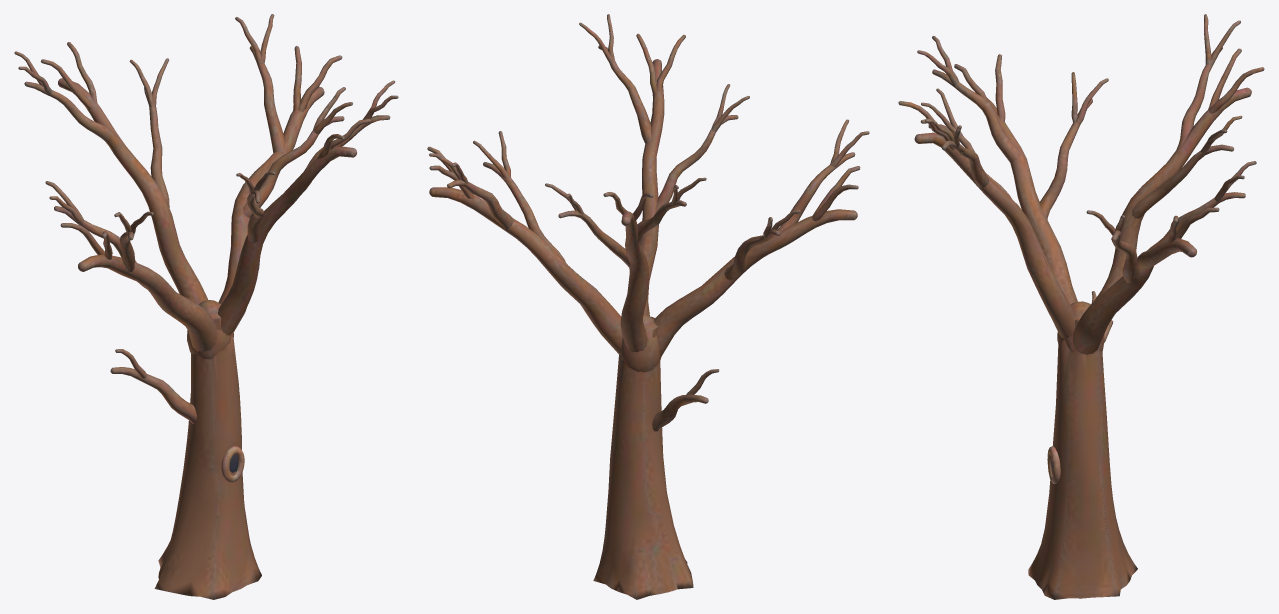
The model's file is deadtree.glb.
The picture shows the model from 3 angles, left to right: view 1: azimuth 30°, elevation 25°; view 2: azimuth 150°, elevation 25°; view 3: azimuth 270°, elevation 25°; orthographic projection. The views are drawn at different scales.
Parts seen in each view (by area): view 1: dead-tree_body; view 2: dead-tree_body; view 3: dead-tree_body.
Part boxes in pixels (<box>): dead-tree_body: <box>14,14,398,599</box>; dead-tree_body: <box>427,14,869,599</box>; dead-tree_body: <box>898,14,1264,599</box>.
Size of the model in its own units: 3.41 by 4.51 by 2.9.
1 material, 1 textured.
